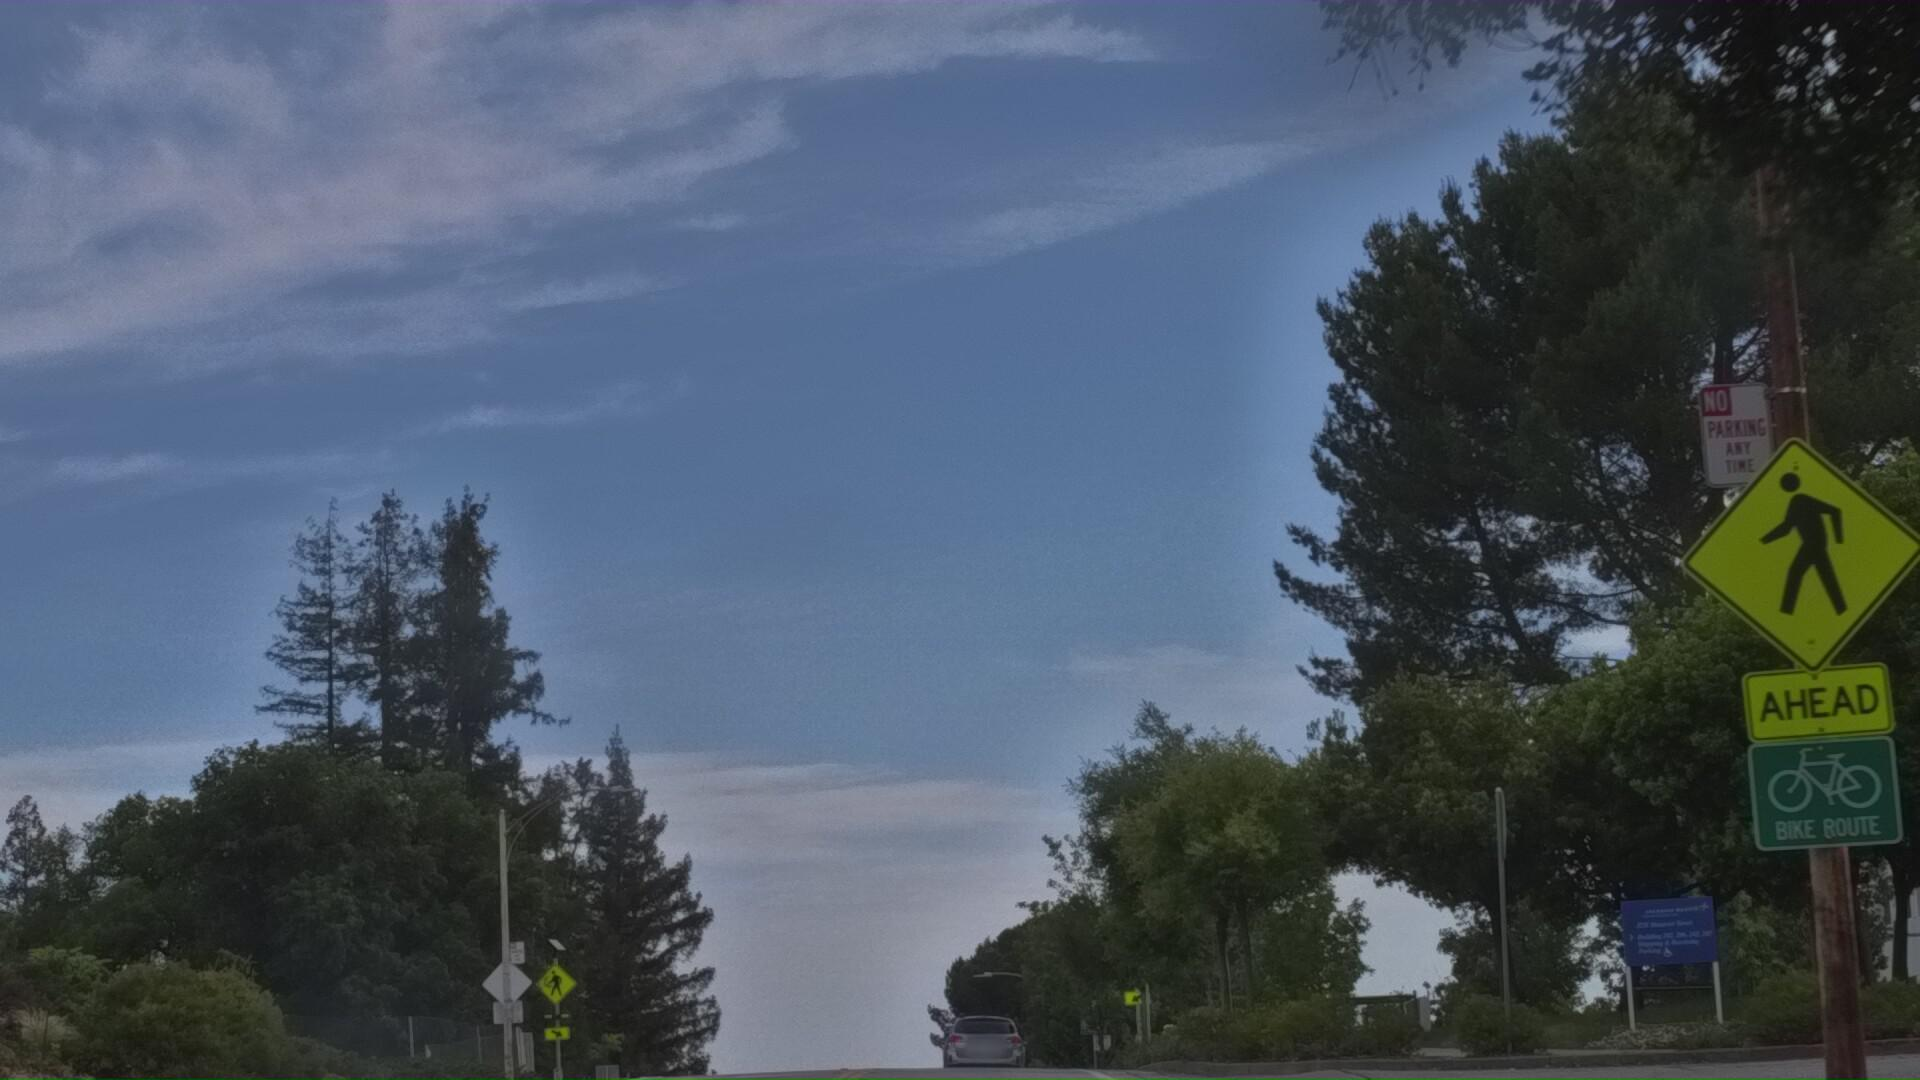car: (931, 1007, 1030, 1080)
